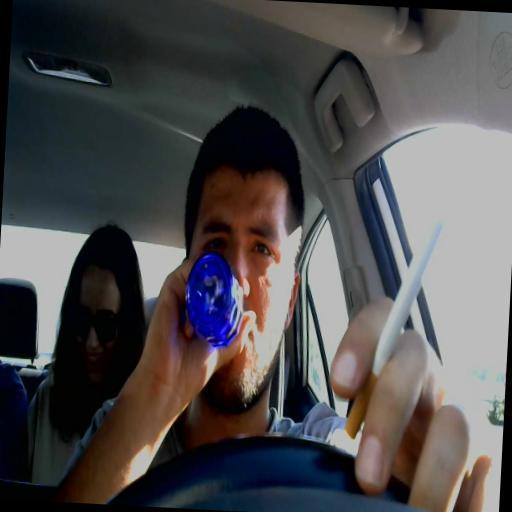Drinking: (167, 168, 303, 409)
